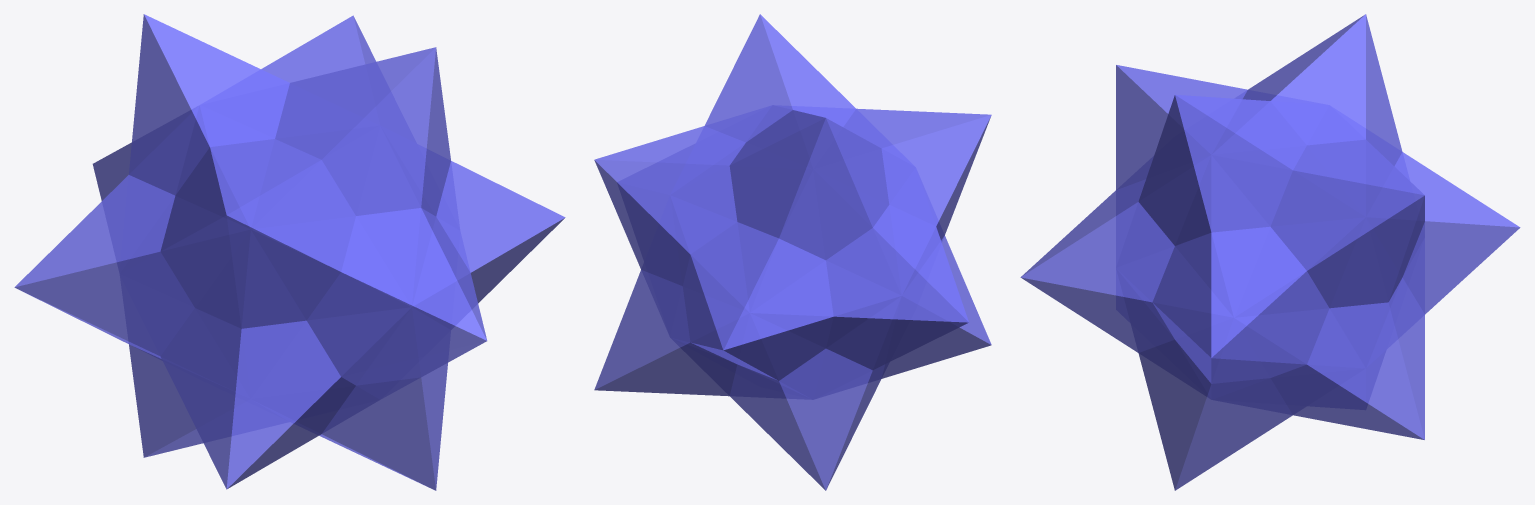
The model's file is fractalmedialrhombictriacontahedron0.glb.
3 renders of one model, left to right at view 1: azimuth 30°, elevation 25°; view 2: azimuth 150°, elevation 25°; view 3: azimuth 270°, elevation 25°, orthographic. The views are drawn at different scales.
Size of the model in its own units: 11.09 by 9.69 by 11.09.
